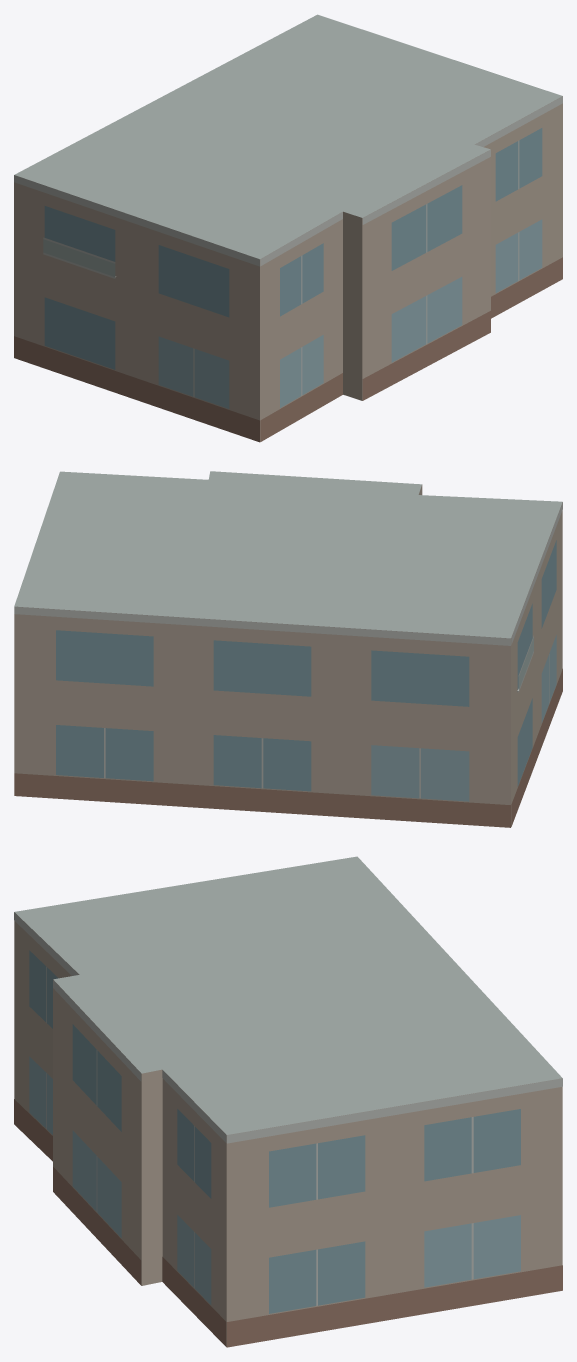
The model's file is survey-upis-32833056.glb.
3 views of the same model, one above another, from view 1: azimuth 30°, elevation 25°; view 2: azimuth 150°, elevation 25°; view 3: azimuth 270°, elevation 25° (orthographic). The views are drawn at different scales.
Parts seen in each view (by area): view 1: survey-upis-32833056.tmp; view 2: survey-upis-32833056.tmp; view 3: survey-upis-32833056.tmp.
Part boxes in pixels (x1,y1,x2,y2): survey-upis-32833056.tmp: [14, 14, 562, 442]; survey-upis-32833056.tmp: [14, 471, 562, 827]; survey-upis-32833056.tmp: [14, 856, 562, 1347].
Size of the model in its own units: 17.18 by 6.1 by 14.29.
